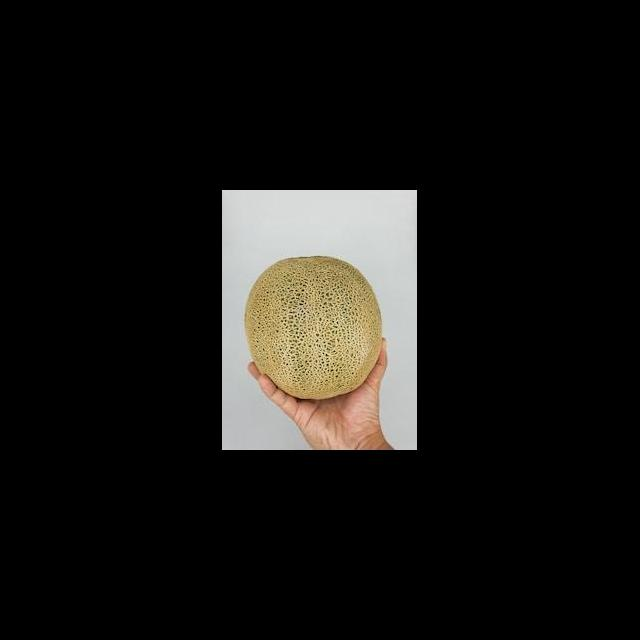Hami Melon: (245, 254, 384, 401)
